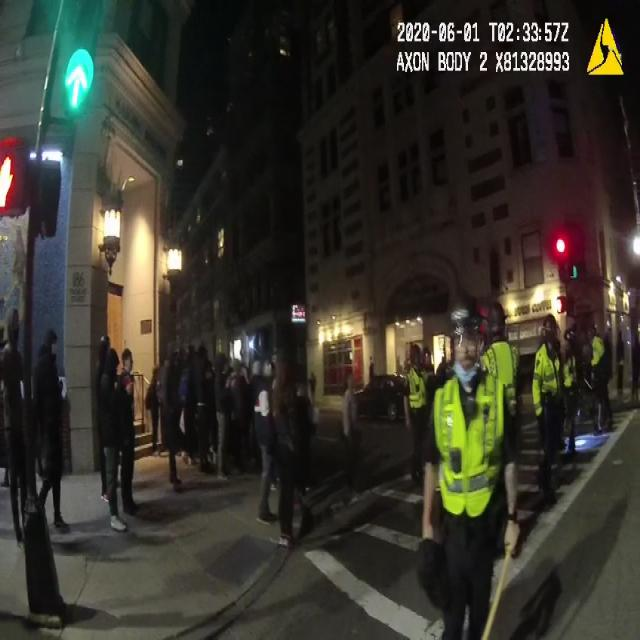cop: (417, 311, 519, 640), (530, 312, 569, 506), (582, 321, 616, 441)
police baton: (473, 539, 521, 640)
protestor: (28, 333, 69, 528), (269, 368, 304, 550), (99, 344, 129, 530), (252, 357, 274, 531), (161, 348, 187, 490), (118, 344, 138, 521), (211, 349, 232, 481)
